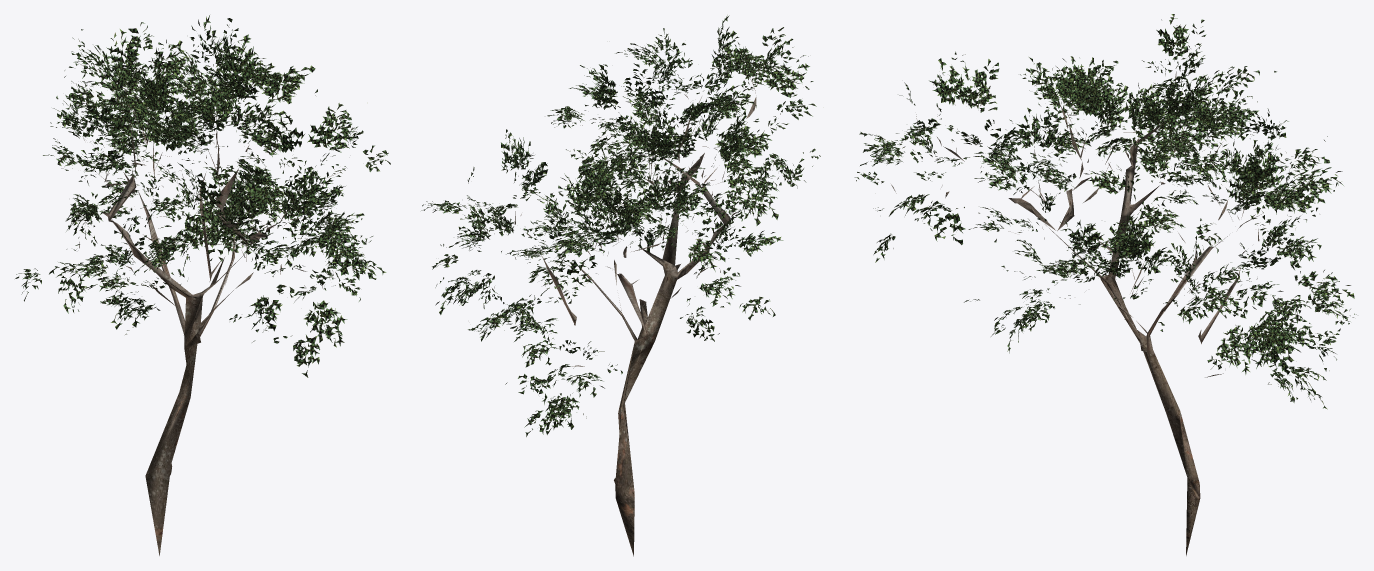
Rendered from tree_small_02_far.glb.
3 views of the same model, side by side, from view 1: azimuth 30°, elevation 25°; view 2: azimuth 150°, elevation 25°; view 3: azimuth 270°, elevation 25° (orthographic). The views are drawn at different scales.
Parts seen in each view (by area): view 1: tree_small_02_LOD0; view 2: tree_small_02_LOD0; view 3: tree_small_02_LOD0.
Boxes of the visible parts, x1,y1,x2,y2 form: tree_small_02_LOD0: [15, 15, 390, 555]; tree_small_02_LOD0: [421, 15, 820, 556]; tree_small_02_LOD0: [854, 14, 1356, 555].
Bounding box in the file's own units: 2.88 × 4.54 × 4.14.
3 materials, 3 textured.
